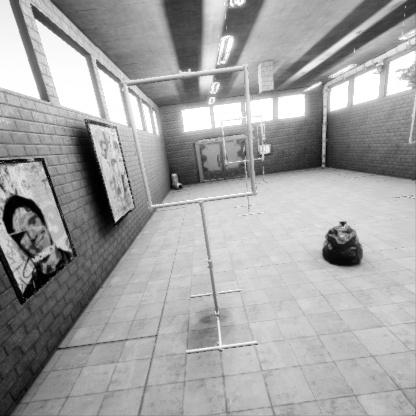gate: (126, 213, 259, 352), (222, 253, 266, 302), (257, 265, 265, 293)
